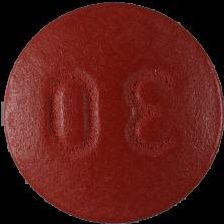63629-1559: (0, 0, 224, 224)
